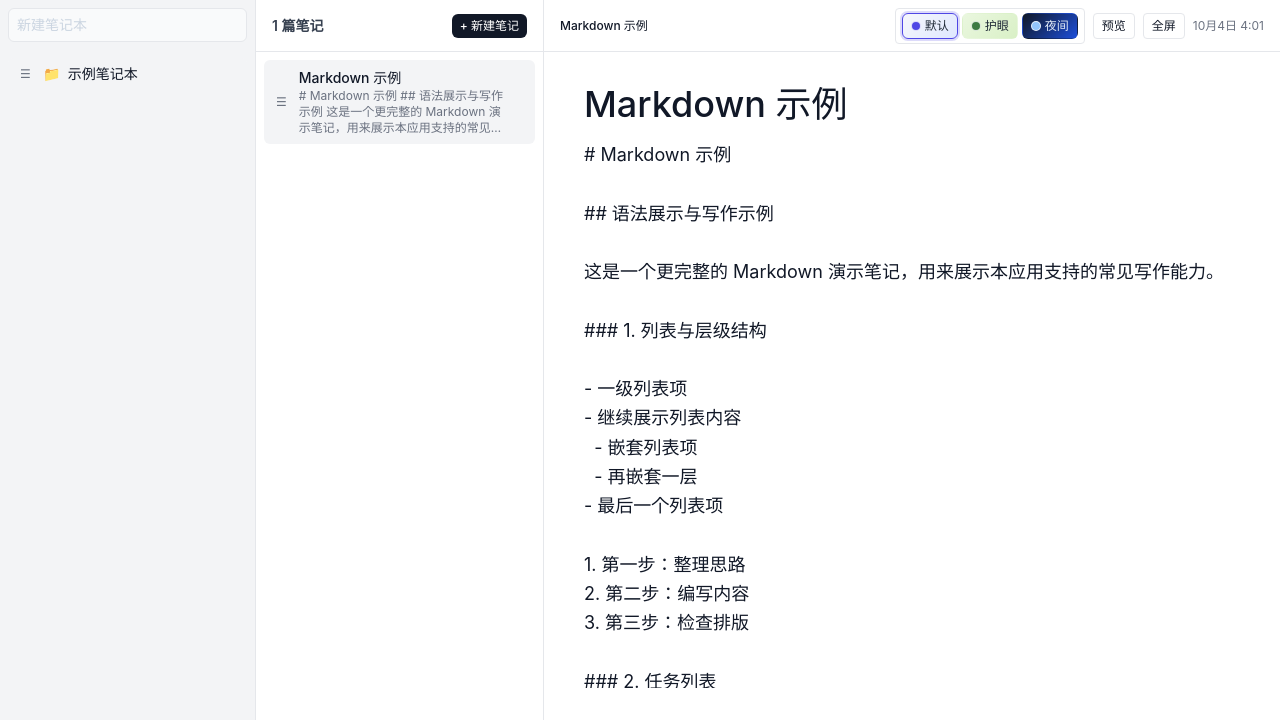
Test: App notebook flow › creates a note inside the selected notebook
Click the button "+ 新建笔记": (489, 26) [452,14,527,38]
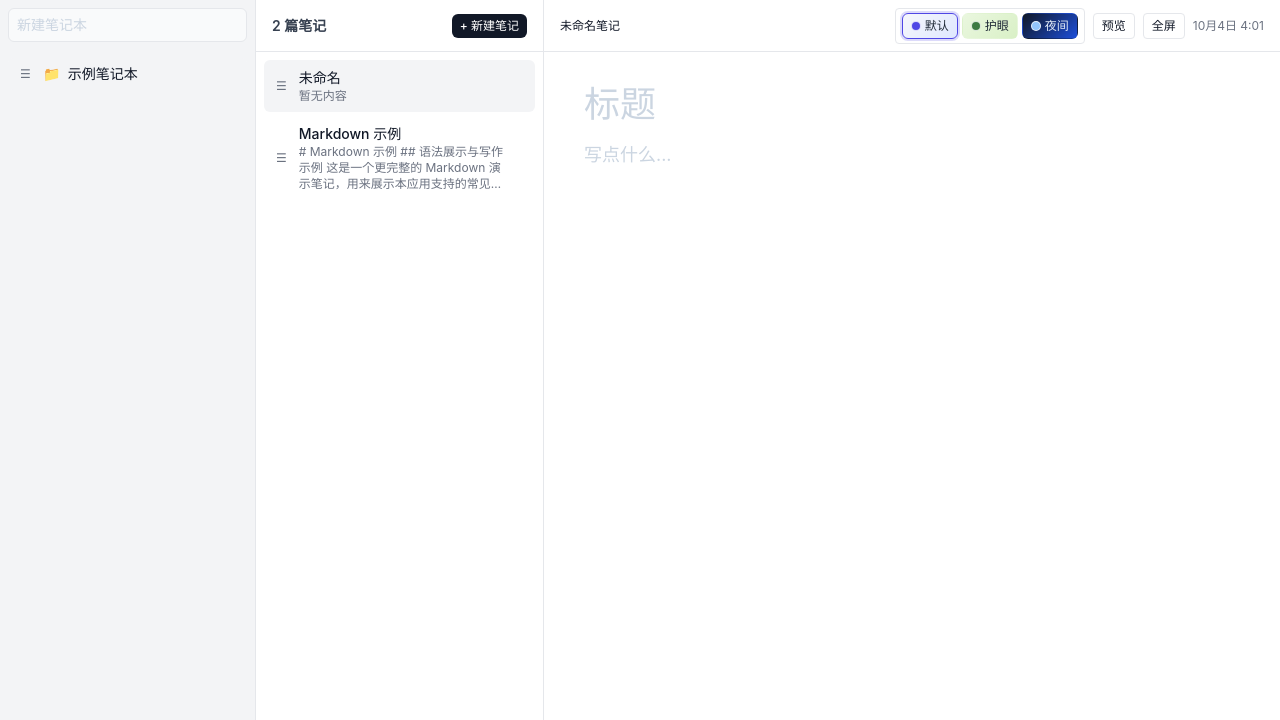
Expected: the heading "2 篇笔记" is shown, [272,16,326,36]
Expected: the text "未命名" is shown, [299,69,341,86]
